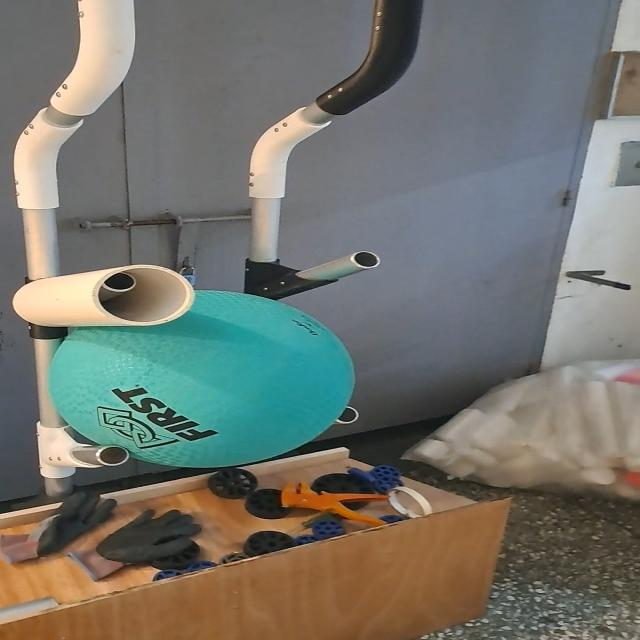ALGAE: (48, 286, 354, 471)
CORAL: (13, 262, 196, 330)
